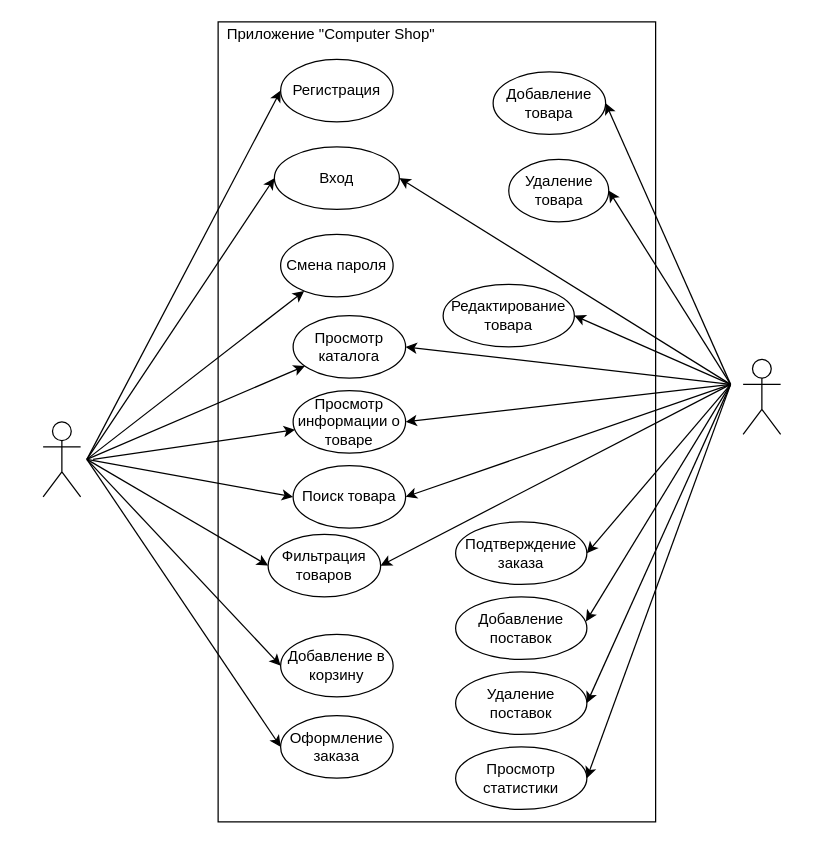
The diagram is 838 pixels wide and 844 high, and some of its shapes have lost their labels. Here are the shapes that lost their labels. From the top down, the centre of each, then its label:
At (x=761, y=396): "Администратор".
At (x=61, y=459): "Покупатель".
